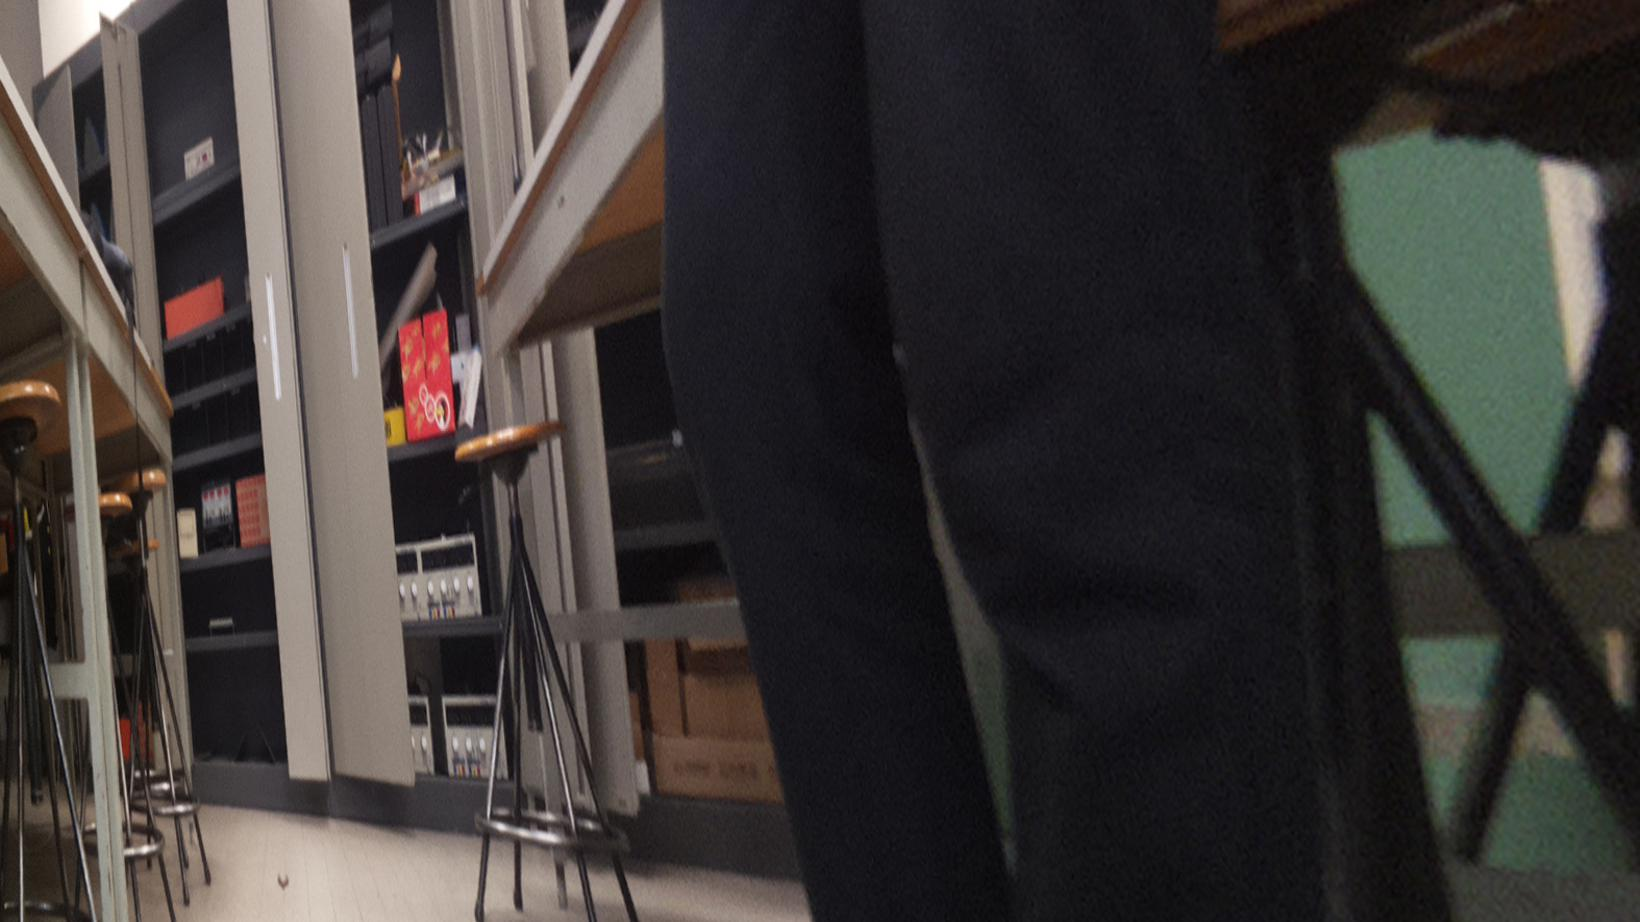small: (276, 872, 291, 890)
